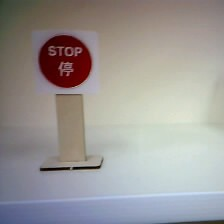stop: (32, 32, 101, 93)
